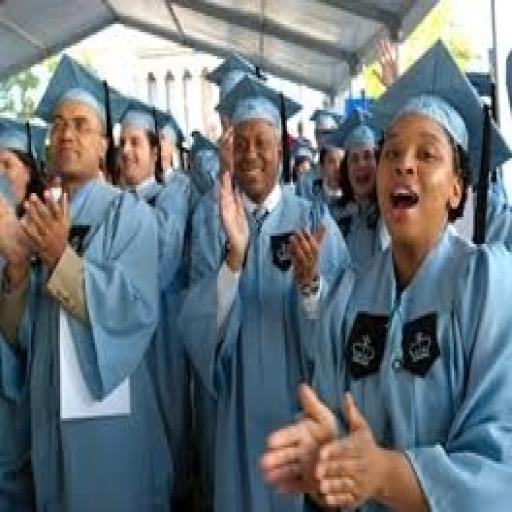clapping: (0, 40, 510, 510)
